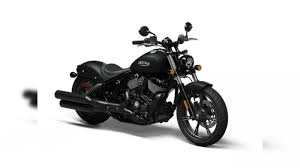MotorCycle: (72, 25, 225, 144)
